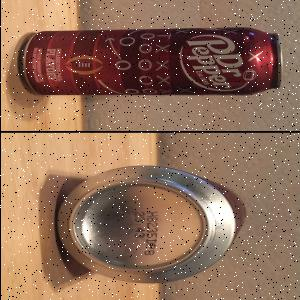Can: (55, 166, 248, 285), (18, 28, 284, 97)
